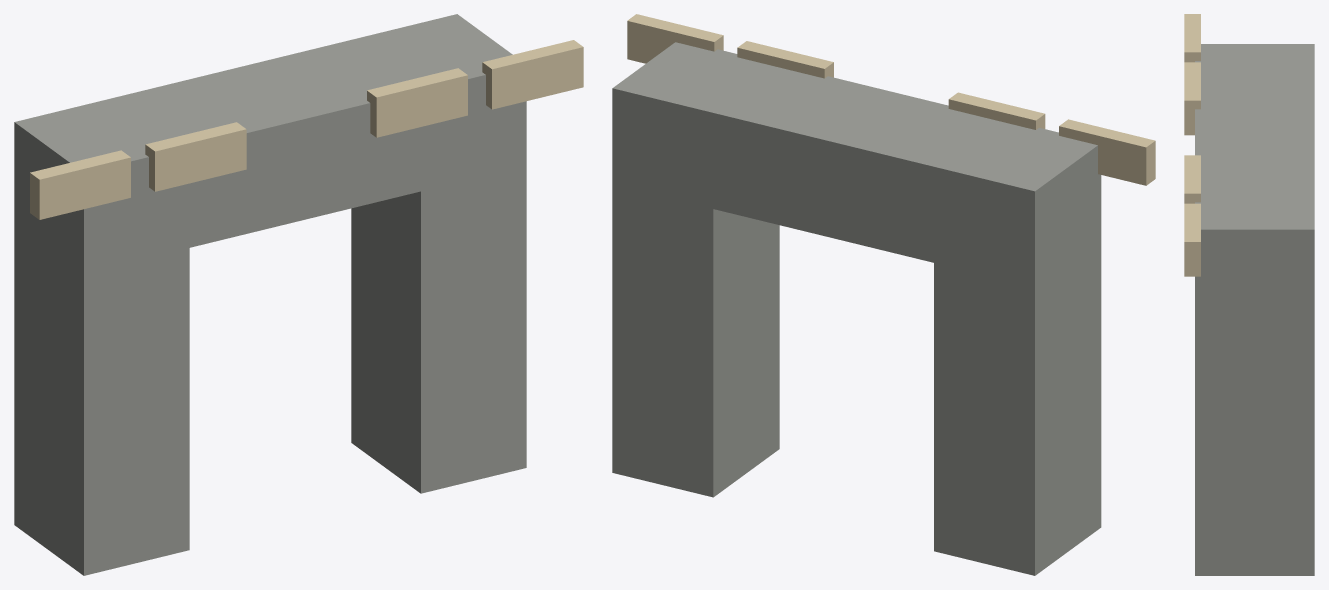
Rendered from norway-tunnel-portal_lod0.glb.
The picture shows the model from 3 angles, left to right: view 1: azimuth 30°, elevation 25°; view 2: azimuth 150°, elevation 25°; view 3: azimuth 270°, elevation 25°; orthographic projection. The views are drawn at different scales.
Visible parts, largest first — view 1: RF_Portal_Left, RF_Portal_Top, RF_Portal_Right, RF_Portal_Block, RF_Portal_Block.001, RF_Portal_Block.003, RF_Portal_Block.002; view 2: RF_Portal_Top, RF_Portal_Left, RF_Portal_Right, RF_Portal_Block, RF_Portal_Block.003, RF_Portal_Block.001, RF_Portal_Block.002; view 3: RF_Portal_Right, RF_Portal_Top, RF_Portal_Block.003, RF_Portal_Block.001, RF_Portal_Block.002, RF_Portal_Block.
Part boxes in pixels (x1,y1,x2,y2): RF_Portal_Left: (14,172,189,575); RF_Portal_Top: (14,14,526,273); RF_Portal_Right: (351,115,526,493); RF_Portal_Block: (30,150,130,219); RF_Portal_Block.001: (145,122,246,191); RF_Portal_Block.003: (482,40,583,109); RF_Portal_Block.002: (367,68,467,137); RF_Portal_Top: (612,42,1101,287); RF_Portal_Left: (934,191,1101,575); RF_Portal_Right: (612,136,779,497); RF_Portal_Block: (1059,119,1155,185); RF_Portal_Block.003: (627,14,723,63); RF_Portal_Block.001: (948,92,1045,129); RF_Portal_Block.002: (737,41,833,78); RF_Portal_Right: (1195,273,1314,575); RF_Portal_Top: (1195,44,1314,316); RF_Portal_Block.003: (1184,203,1200,276); RF_Portal_Block.001: (1184,62,1200,135); RF_Portal_Block.002: (1184,155,1200,203); RF_Portal_Block: (1184,14,1200,62).
Size of the model in its own units: 11.3 by 8.2 by 2.72.
